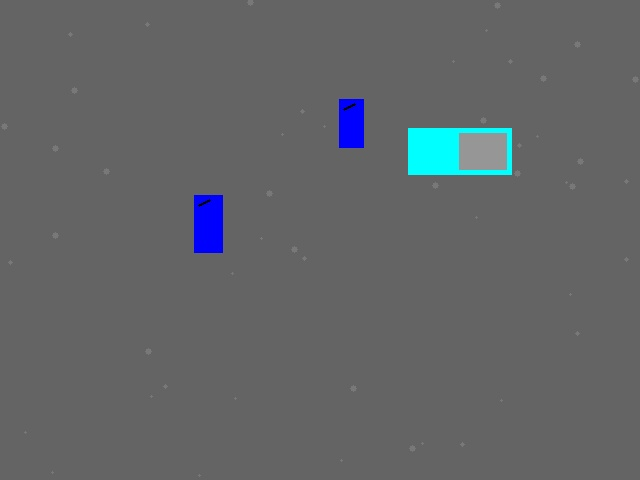motorcycle: (194, 195, 222, 252), (339, 99, 363, 147)
truck: (408, 128, 511, 174)
